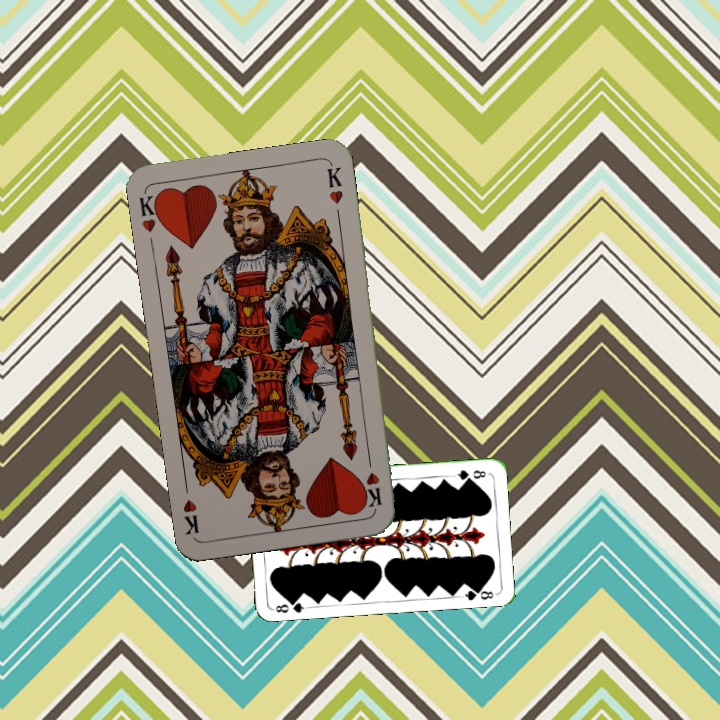G8: (270, 595, 310, 615), (450, 466, 488, 483)
HK: (135, 189, 165, 235), (362, 451, 384, 510)
